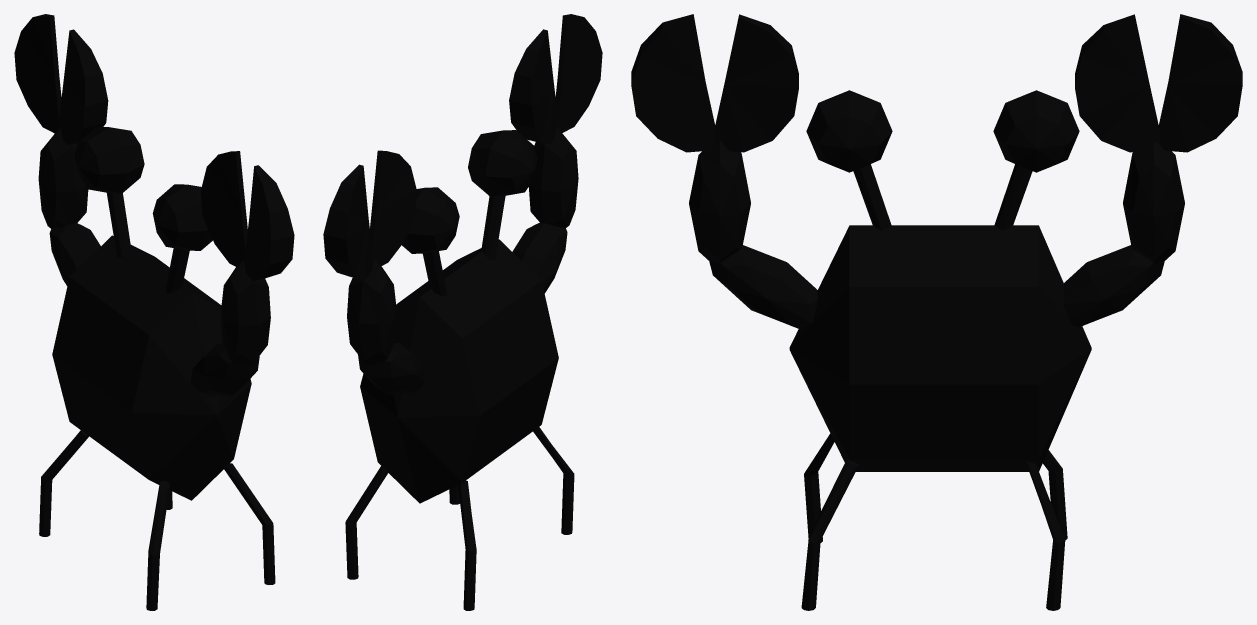
The model's file is Crab.glb.
3 views of the same model, side by side, from view 1: azimuth 30°, elevation 25°; view 2: azimuth 150°, elevation 25°; view 3: azimuth 270°, elevation 25° (orthographic). The views are drawn at different scales.
Parts seen in each view (by area): view 1: Crab; view 2: Crab; view 3: Crab.
Boxes of the visible parts, <box> form: Crab: <box>14,14,294,610</box>; Crab: <box>323,14,602,610</box>; Crab: <box>631,14,1242,610</box>.
Size of the model in its own units: 15.51 by 53.47 by 53.21.
Materials: 1 (1 with a texture image).
